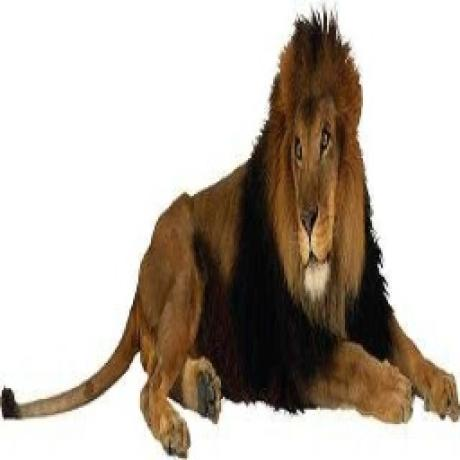Lion: (0, 8, 460, 460)
